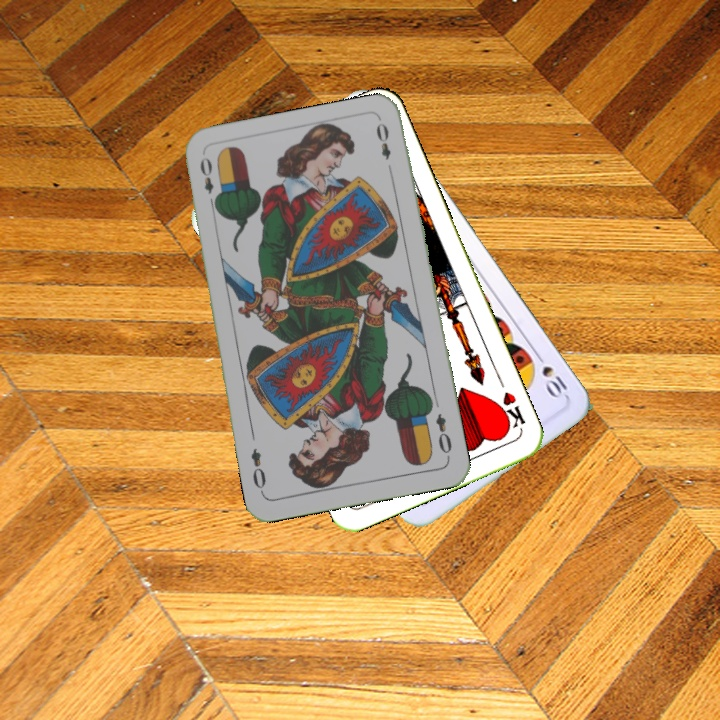EO: (196, 153, 221, 211), (432, 409, 455, 461)
HK: (493, 387, 528, 433)
S10: (531, 347, 571, 401)
